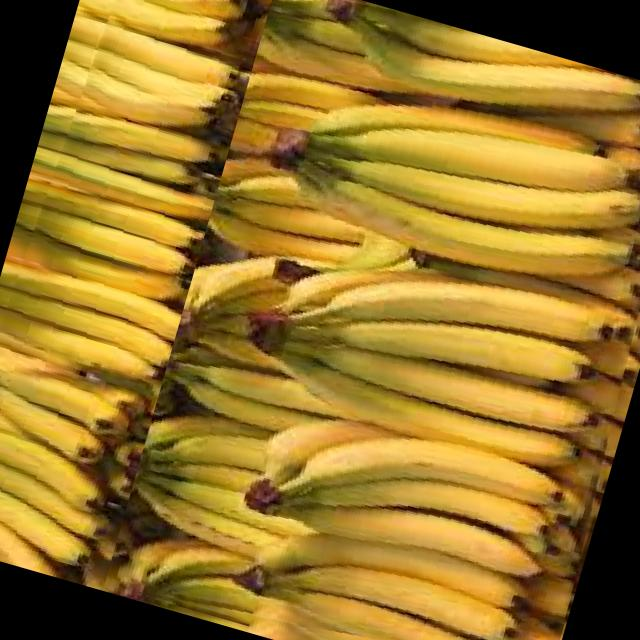Organic: (103, 0, 640, 640), (0, 0, 283, 592)
